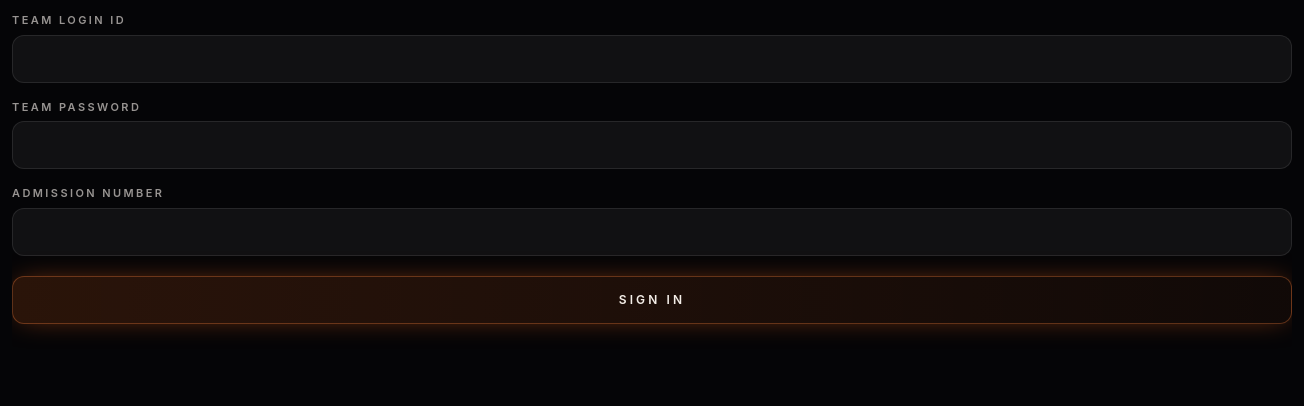
Scenario: <LoginForm role='participant' /> › shows the generic message for wrong credentials, never echoes input, and re-enables the form
Type " team_a " into the field labelled "Team Login ID" at (652, 58), box [12, 34, 1292, 82]
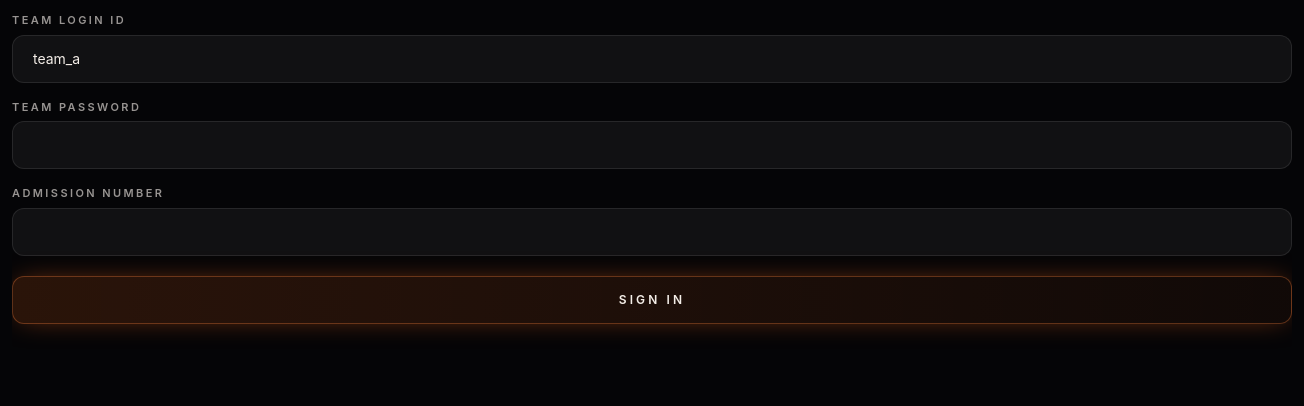
Type "pw-secret" into the password field labelled "Team Password" at (652, 145), box [12, 121, 1292, 169]
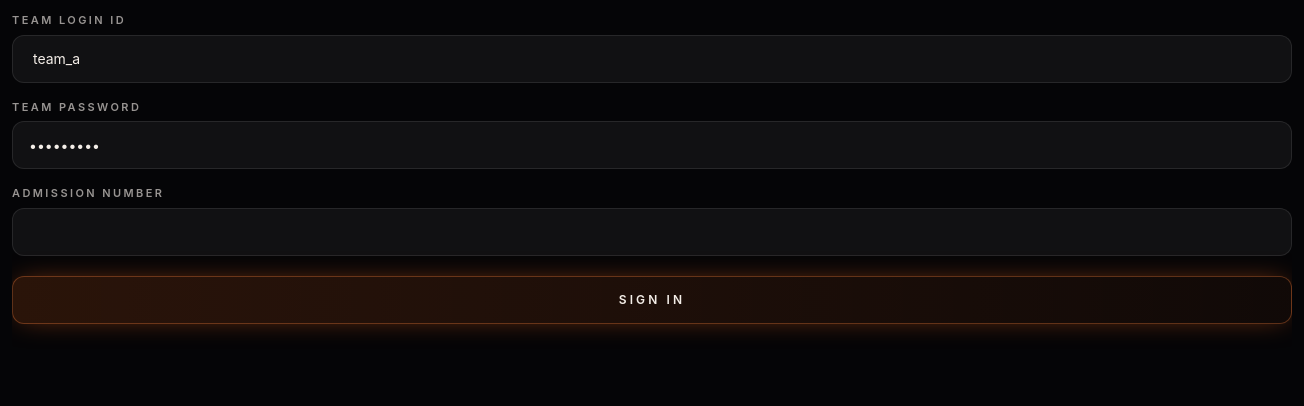
Type " 23je0001 " into the field labelled "Admission Number" at (652, 232), box [12, 208, 1292, 256]
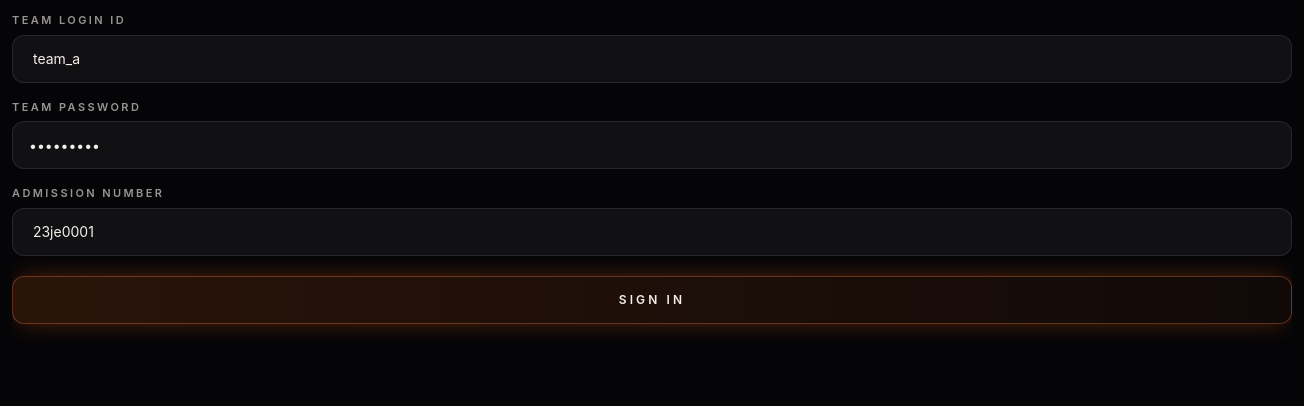
Click the button "Sign in" at (652, 300), box [12, 276, 1292, 324]
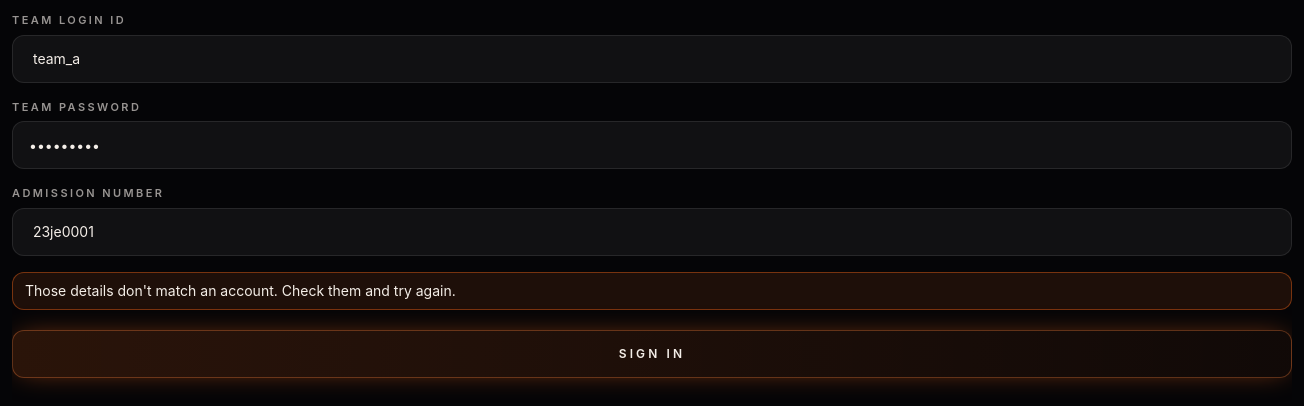
Expected: the message does not show "23je0001"
Now the message shows "Those details don't match an account", box [25, 282, 456, 298]
